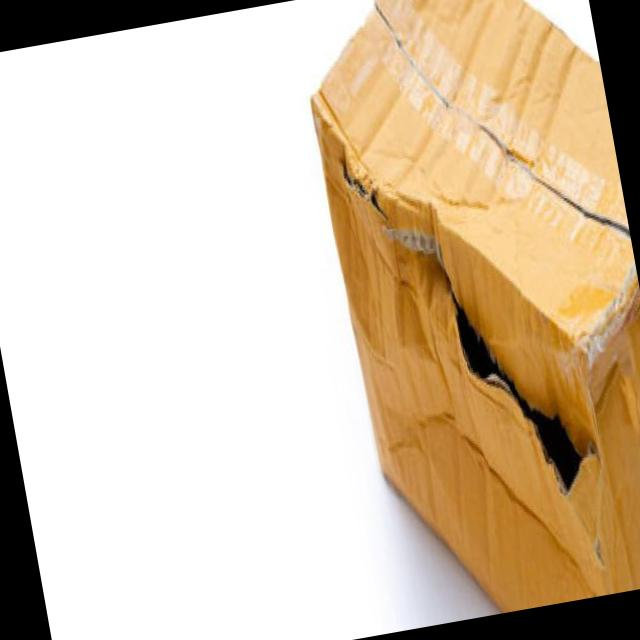box: (1, 5, 640, 607)
